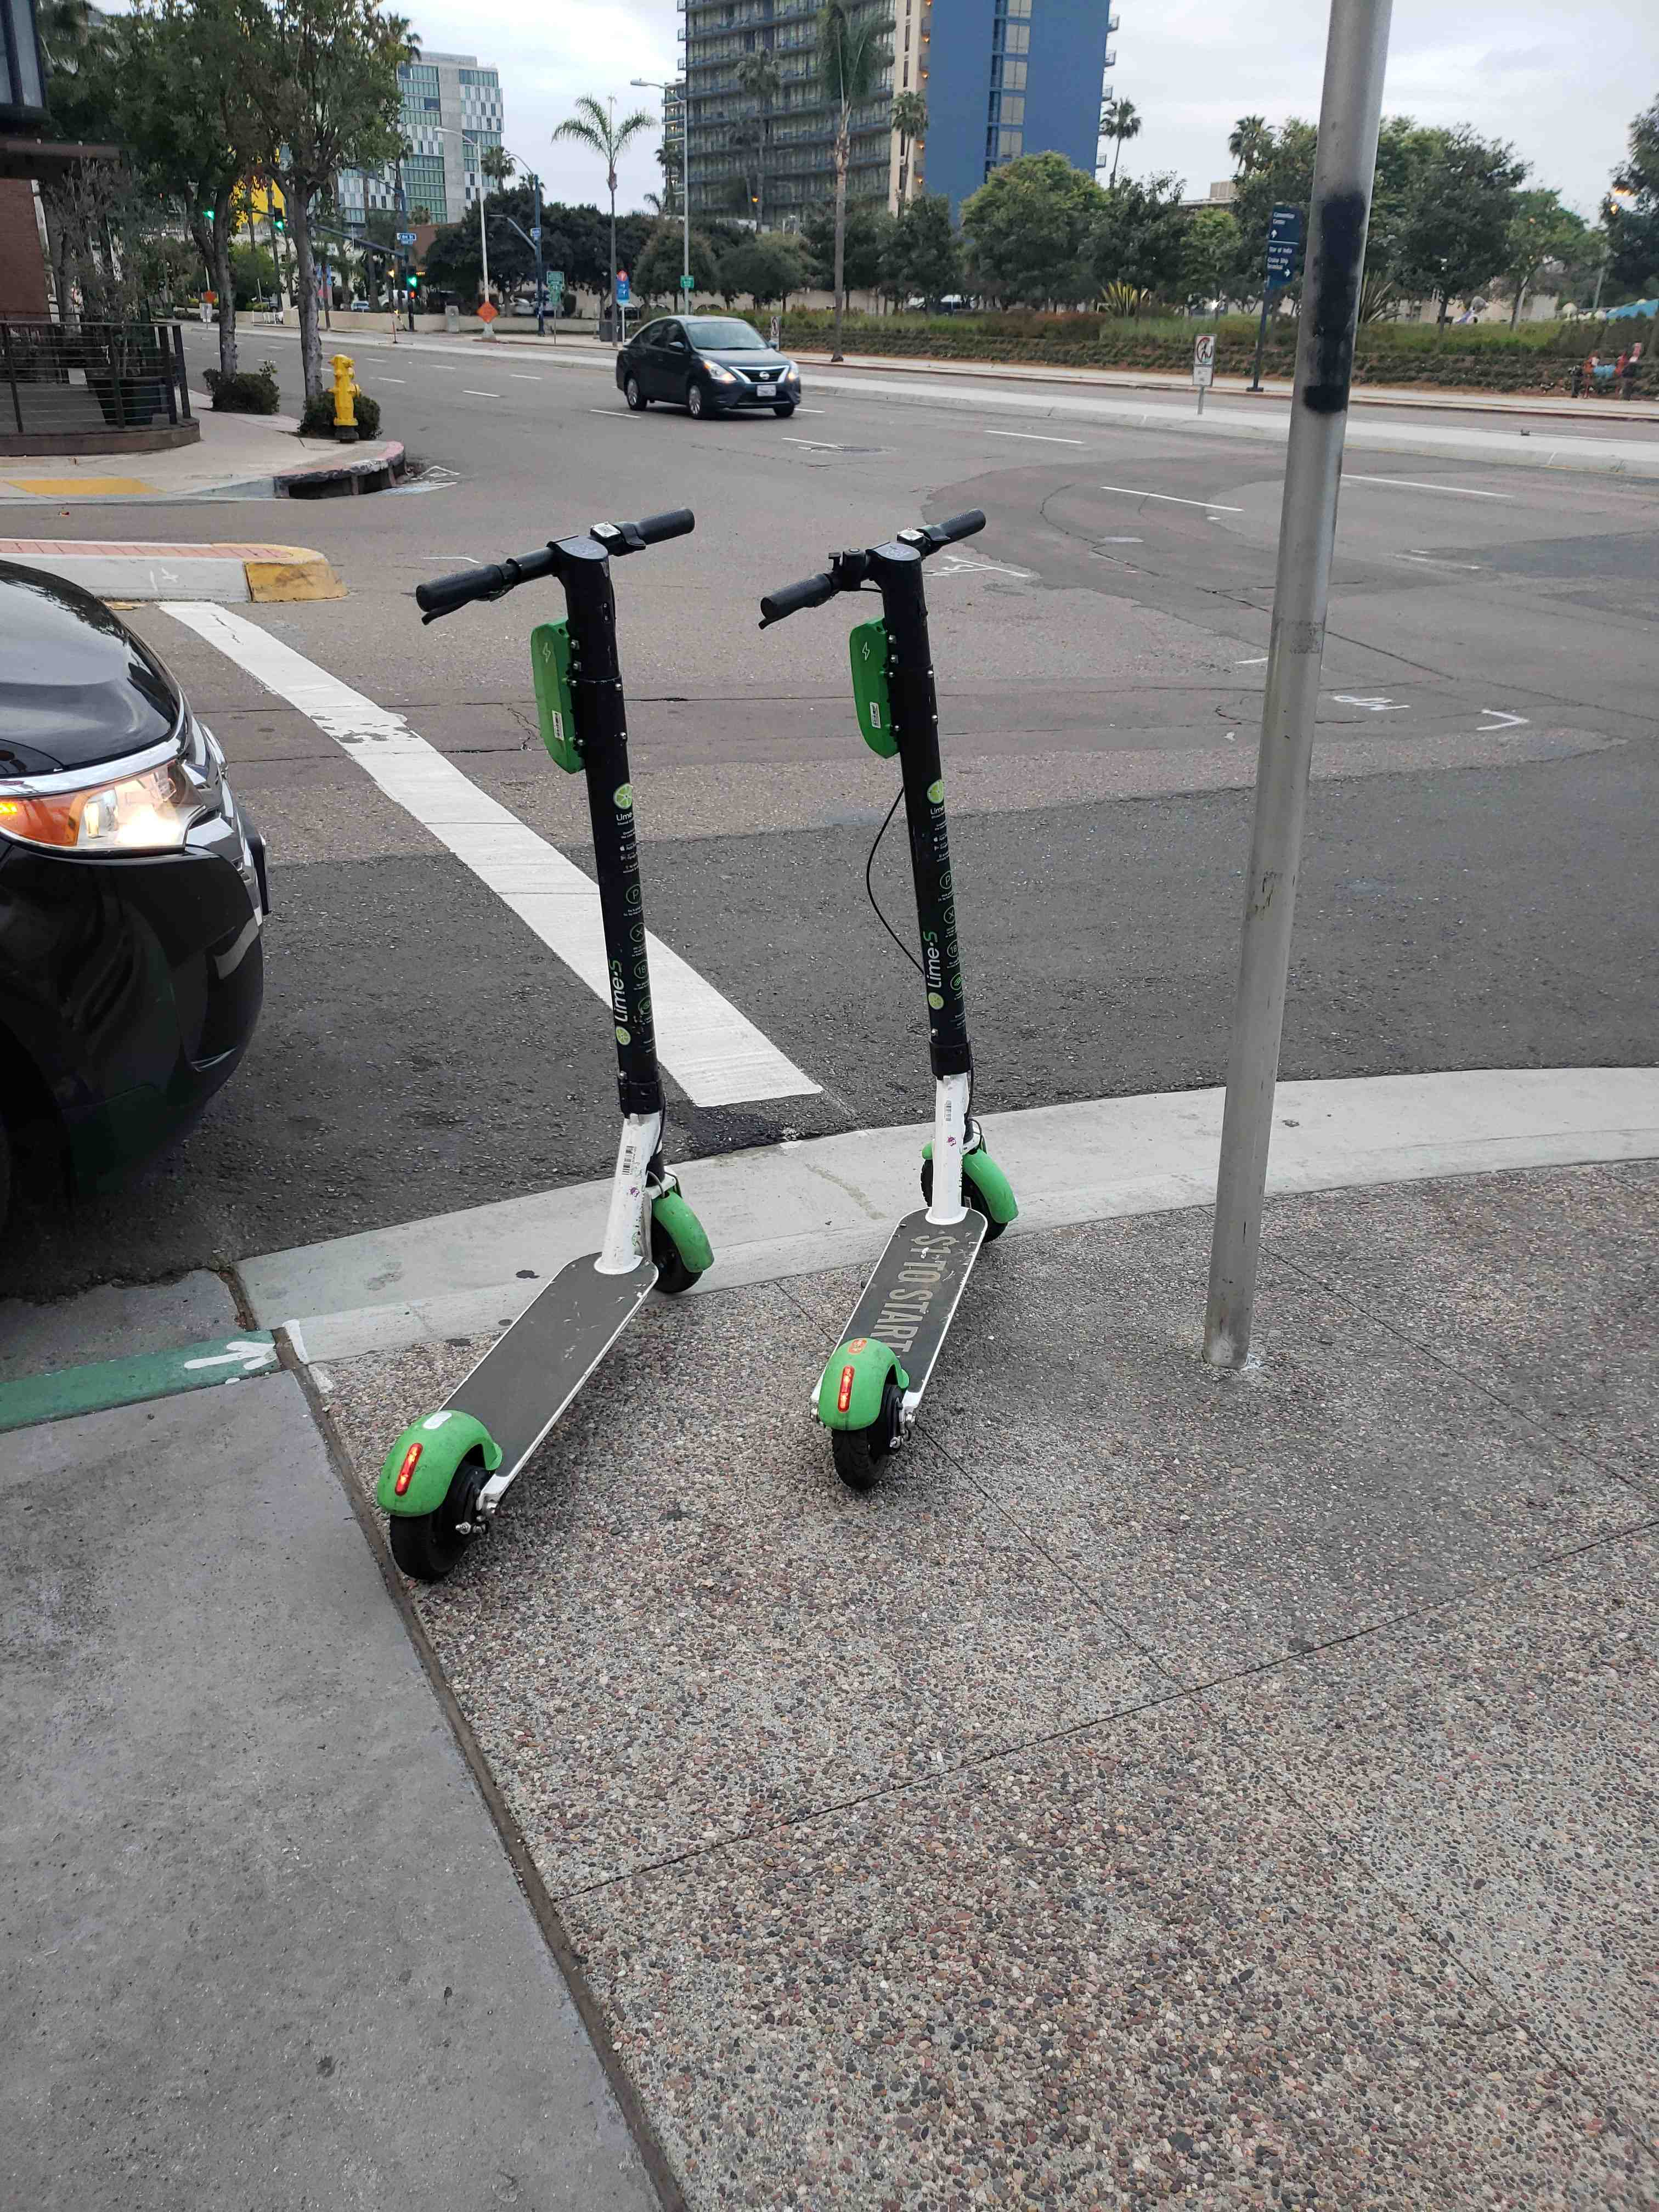too close: (542, 1160, 784, 1359), (852, 1129, 1070, 1292)
